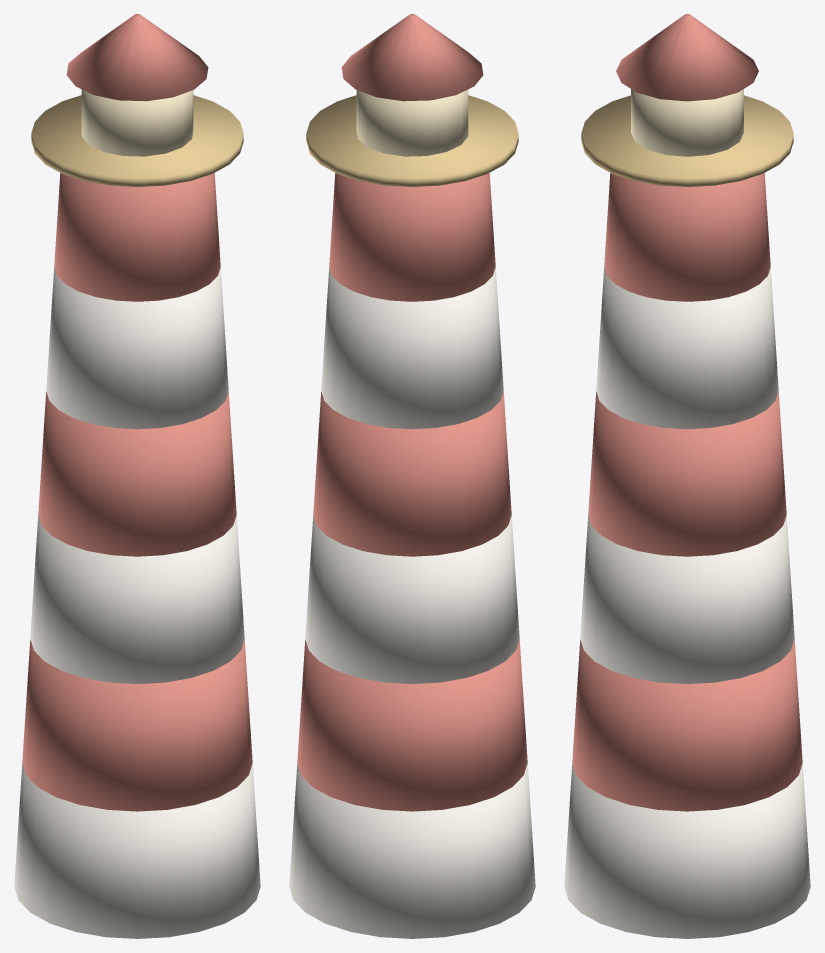
Rendered from lighthouse_tall.glb.
3 renders of one model, left to right at view 1: azimuth 30°, elevation 25°; view 2: azimuth 150°, elevation 25°; view 3: azimuth 270°, elevation 25°, orthographic.
Visible parts, largest first — view 1: band_0, band_1, band_2, band_3, band_4, band_5, gallery, roof, lamp; view 2: band_0, band_1, band_2, band_3, band_4, band_5, gallery, roof, lamp; view 3: band_0, band_1, band_2, band_3, band_4, band_5, gallery, roof, lamp.
Part boxes in pixels (x1,y1,x2,y2): band_0: [14, 764, 260, 938]; band_1: [22, 640, 252, 811]; band_2: [30, 516, 244, 683]; band_3: [38, 392, 236, 556]; band_4: [46, 267, 228, 429]; band_5: [54, 173, 220, 301]; gallery: [31, 95, 243, 186]; roof: [66, 14, 208, 101]; lamp: [81, 89, 193, 156]; band_0: [289, 764, 535, 938]; band_1: [297, 640, 527, 811]; band_2: [305, 516, 519, 683]; band_3: [313, 392, 511, 556]; band_4: [321, 267, 503, 429]; band_5: [329, 173, 495, 301]; gallery: [306, 95, 518, 186]; roof: [341, 14, 483, 101]; lamp: [356, 89, 468, 156]; band_0: [564, 764, 810, 938]; band_1: [572, 640, 802, 811]; band_2: [580, 516, 794, 683]; band_3: [588, 392, 786, 556]; band_4: [596, 267, 778, 429]; band_5: [604, 173, 770, 301]; gallery: [581, 95, 793, 186]; roof: [616, 14, 758, 101]; lamp: [631, 89, 743, 156].
Bounding box in the file's own units: 3.6 × 14.05 × 3.6.
